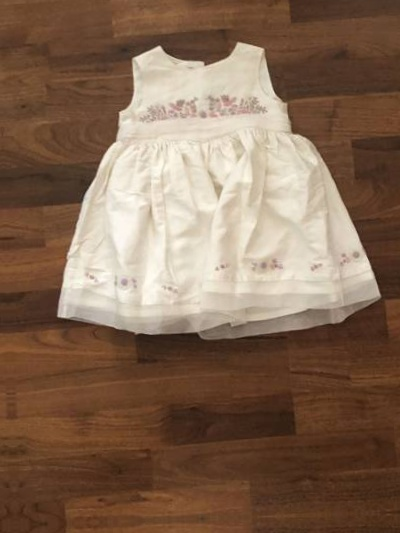Dress: (41, 28, 382, 390)
